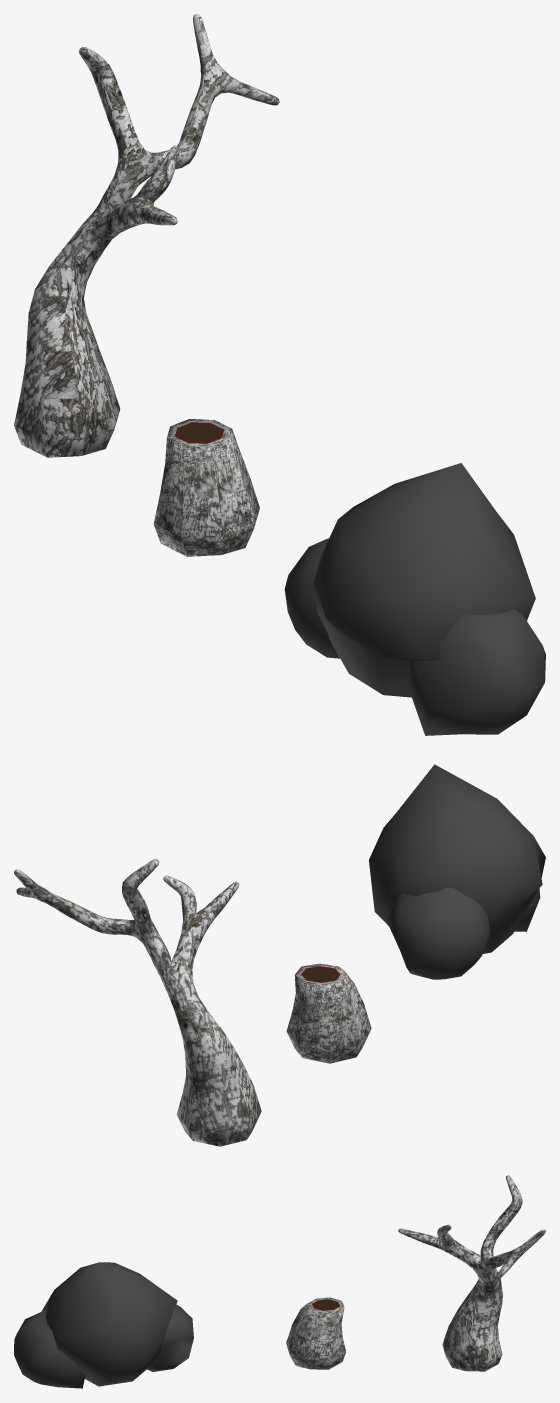
Rendered from snowTree,Trunk,RockUV.fbx.
3 views of the same model, one above another, from view 1: azimuth 30°, elevation 25°; view 2: azimuth 150°, elevation 25°; view 3: azimuth 270°, elevation 25° (orthographic). The views are drawn at different scales.
Visible parts, largest first — view 1: Icosphere.032, Cube.003, Cube.004; view 2: Icosphere.032, Cube.003, Cube.004; view 3: Icosphere.032, Cube.003, Cube.004.
Boxes of the visible parts, x1,y1,x2,y2 form: Icosphere.032: (284, 463, 545, 735); Cube.003: (14, 14, 279, 457); Cube.004: (153, 419, 259, 556); Icosphere.032: (369, 764, 545, 979); Cube.003: (14, 859, 261, 1146); Cube.004: (286, 963, 371, 1063); Icosphere.032: (14, 1262, 193, 1388); Cube.003: (398, 1175, 545, 1371); Cube.004: (286, 1297, 345, 1369).
Size of the model in its own units: 903 by 1046 by 2388.
4 materials, 1 textured.
